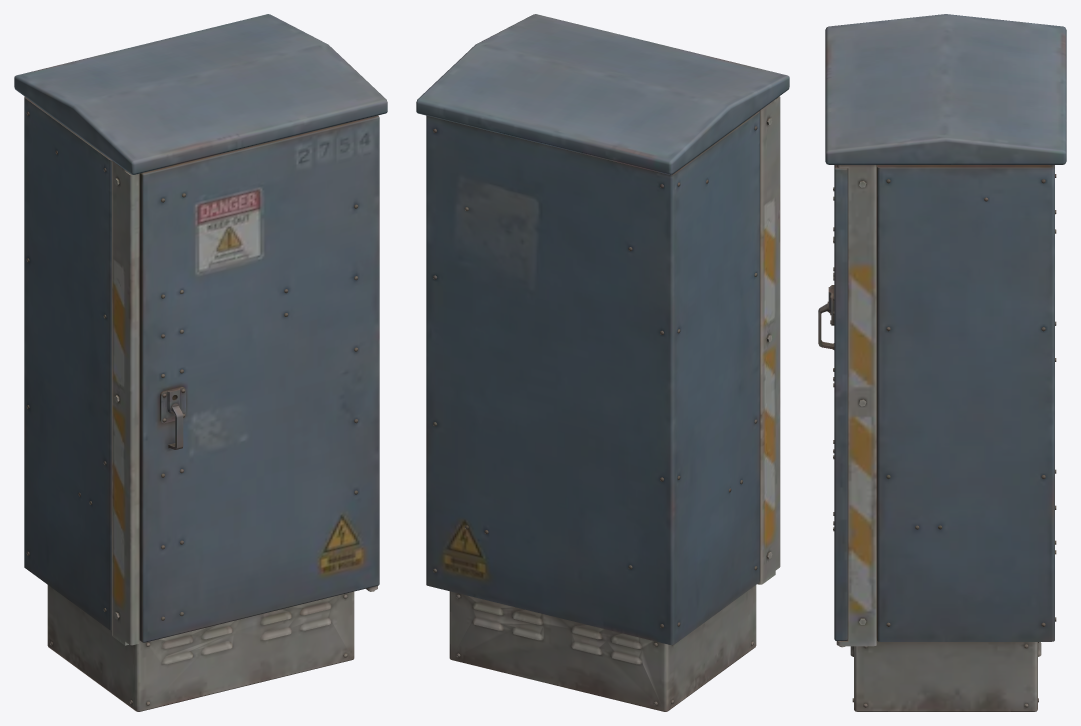
File: utility_box_01.glb
3 renders of one model, left to right at view 1: azimuth 30°, elevation 25°; view 2: azimuth 150°, elevation 25°; view 3: azimuth 270°, elevation 25°, orthographic.
Visible parts, largest first — view 1: utility_box_01_box; view 2: utility_box_01_box; view 3: utility_box_01_box.
Part boxes in pixels (left/top/right/bottom): utility_box_01_box: left=14, top=14, right=387, bottom=711; utility_box_01_box: left=416, top=14, right=789, bottom=711; utility_box_01_box: left=818, top=14, right=1066, bottom=711.
Bounding box in the file's own units: 0.52 × 1.12 × 0.432.
1 material, 1 textured.
